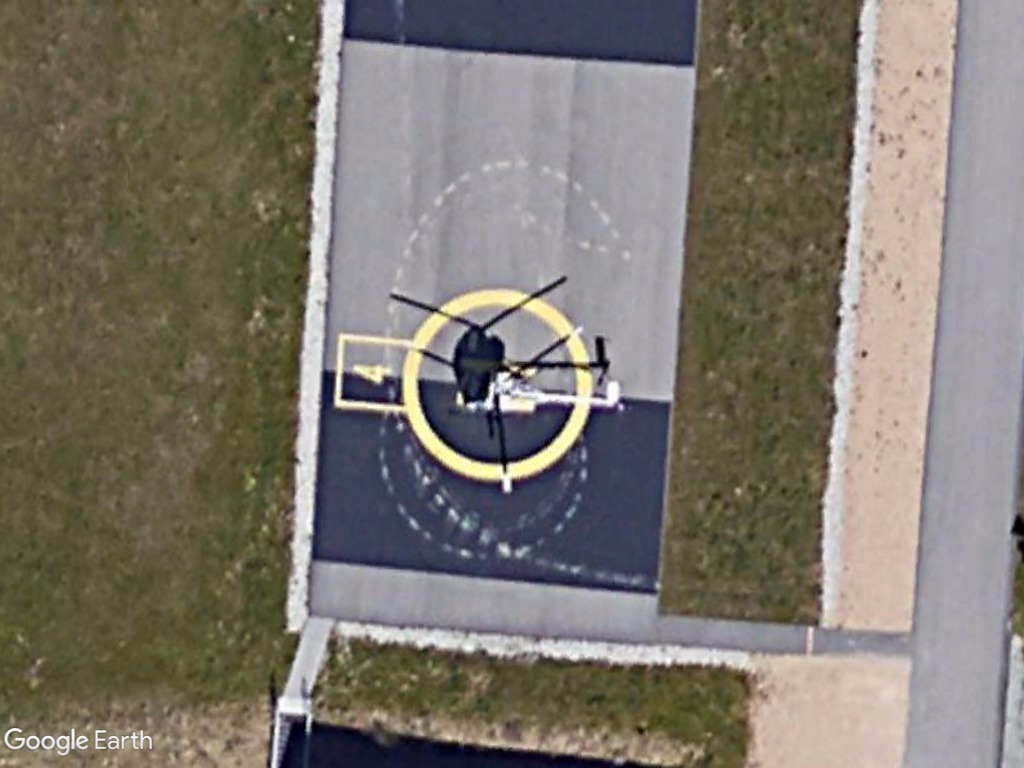helicopter: (401, 334, 626, 495)
